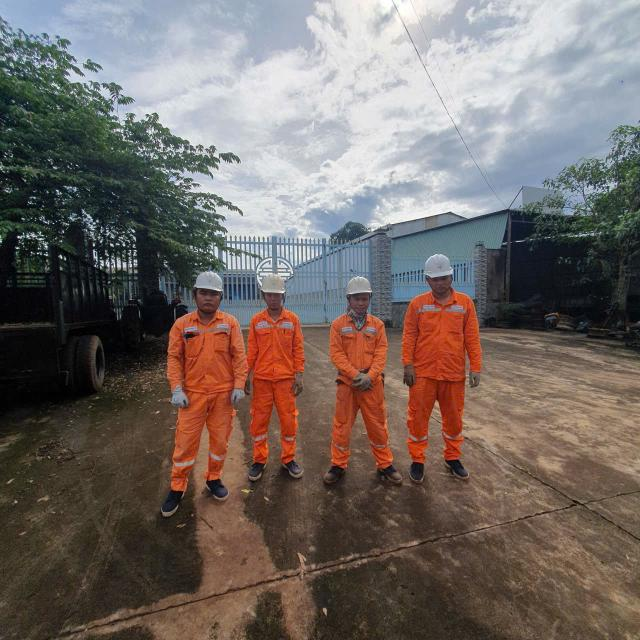gloves: (345, 366, 380, 397), (393, 358, 422, 392), (286, 369, 310, 399), (168, 381, 190, 409), (465, 361, 485, 391), (241, 372, 256, 398), (231, 382, 244, 406)
helmet: (418, 251, 462, 283), (189, 265, 227, 298), (253, 269, 291, 299), (343, 274, 378, 301)
shoes: (199, 470, 234, 508), (157, 483, 190, 518), (438, 449, 469, 484), (372, 462, 402, 488), (280, 454, 305, 483), (403, 458, 428, 486), (242, 456, 265, 482), (324, 457, 343, 487)
